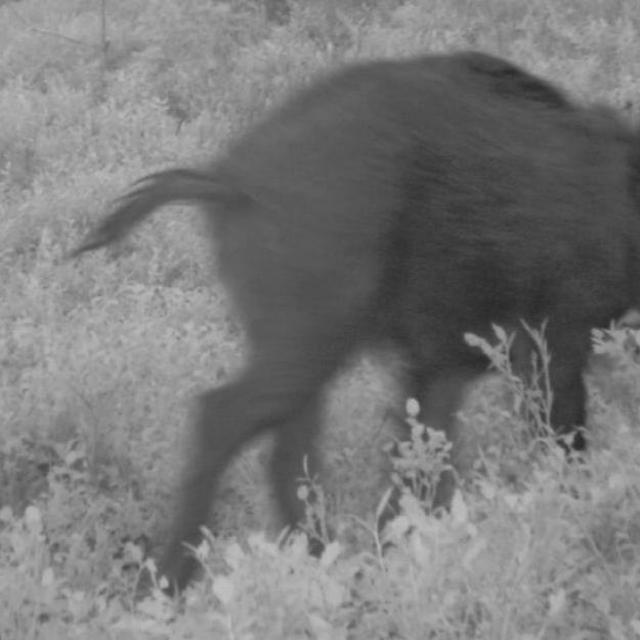pig: (74, 59, 640, 560)
